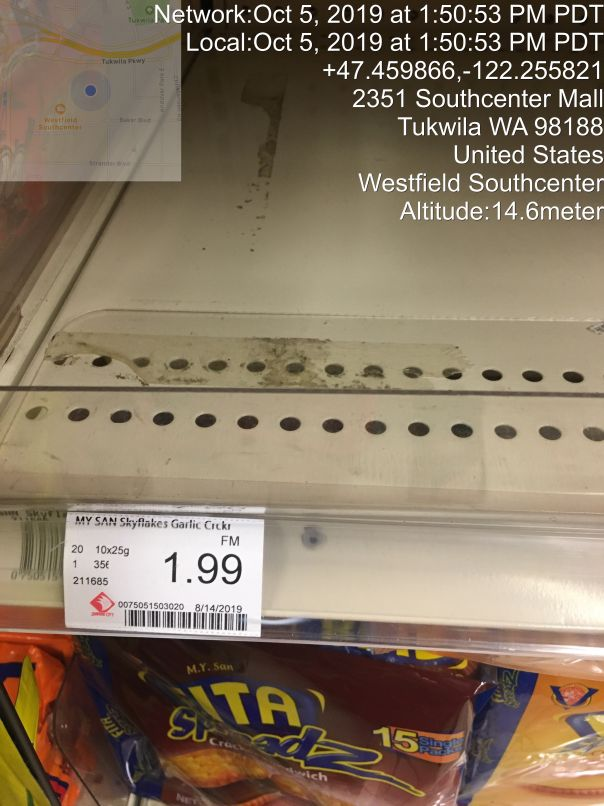Label: (49, 479, 276, 656)
Location: (345, 80, 604, 195)
Time: (147, 4, 604, 60)
Void: (64, 44, 538, 382)
